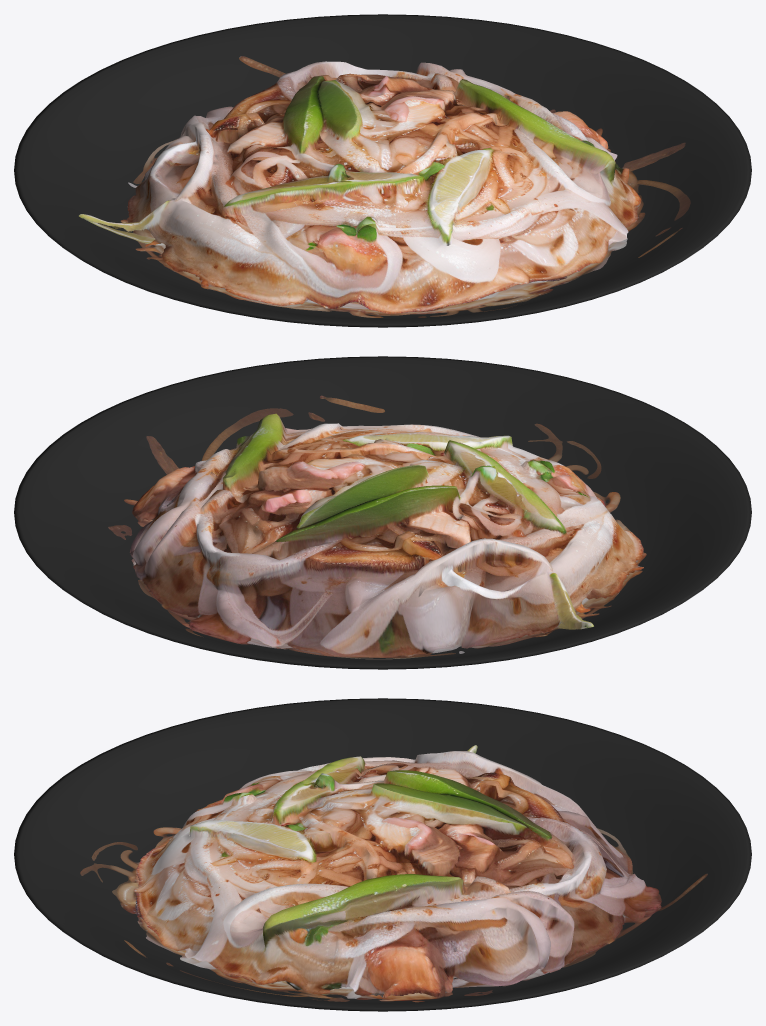
The model's file is padthai.glb.
The picture shows the model from 3 angles, top to bottom: view 1: azimuth 30°, elevation 25°; view 2: azimuth 150°, elevation 25°; view 3: azimuth 270°, elevation 25°; orthographic projection.
Visible parts, largest first — view 1: Object_2, Object_3, Object_4; view 2: Object_2, Object_3, Object_4; view 3: Object_2, Object_3, Object_4.
Part boxes in pixels (left/top/right/bottom): Object_2: left=79, top=61, right=641, bottom=313; Object_3: left=14, top=14, right=751, bottom=327; Object_4: left=84, top=56, right=690, bottom=317; Object_2: left=130, top=413, right=643, bottom=657; Object_3: left=14, top=356, right=751, bottom=669; Object_4: left=108, top=395, right=646, bottom=659; Object_2: left=134, top=745, right=661, bottom=997; Object_3: left=14, top=698, right=751, bottom=1011; Object_4: left=80, top=752, right=707, bottom=1002.
Size of the model in its own units: 0.5959 by 0.0997 by 0.5959.
Materials: 3 (2 with a texture image).
